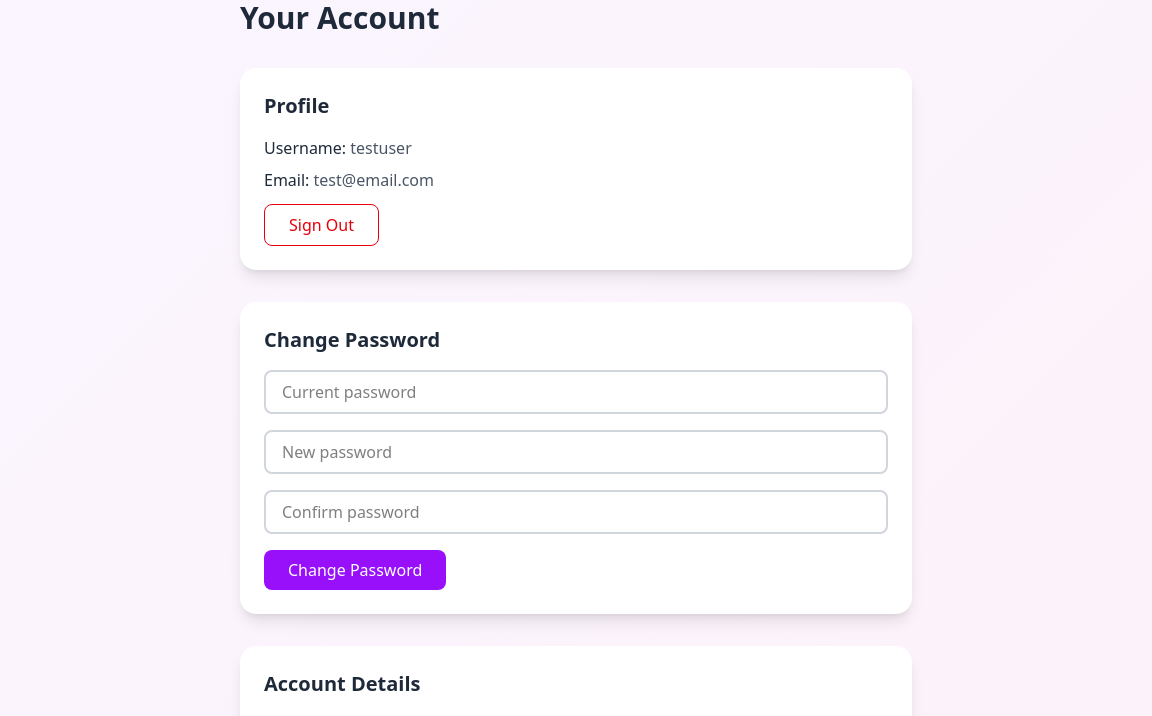
Scenario: DashboardPage › displays password validation errors
The image size is (1152, 716).
Type "OldPassword123!" into the password field with placeholder "Current password" at {"x": 576, "y": 392}, box left=264, top=370, right=888, bottom=414
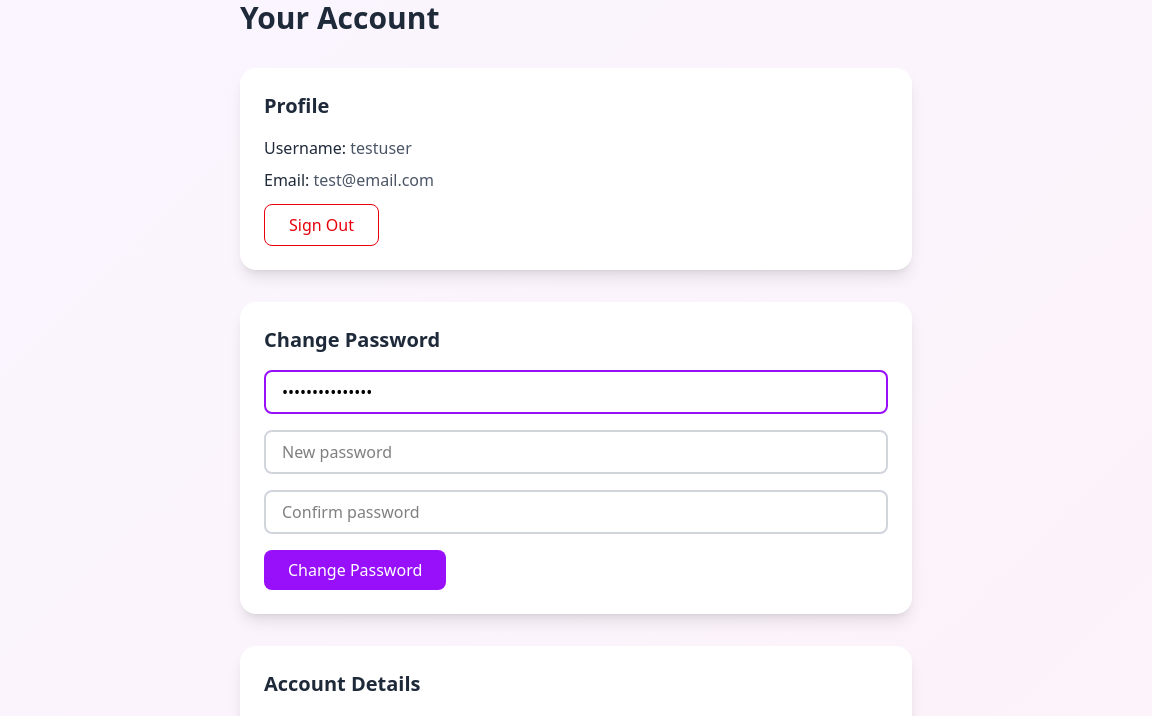
Type "NewPassword123!" into the password field with placeholder "New password" at {"x": 576, "y": 452}, box left=264, top=430, right=888, bottom=474
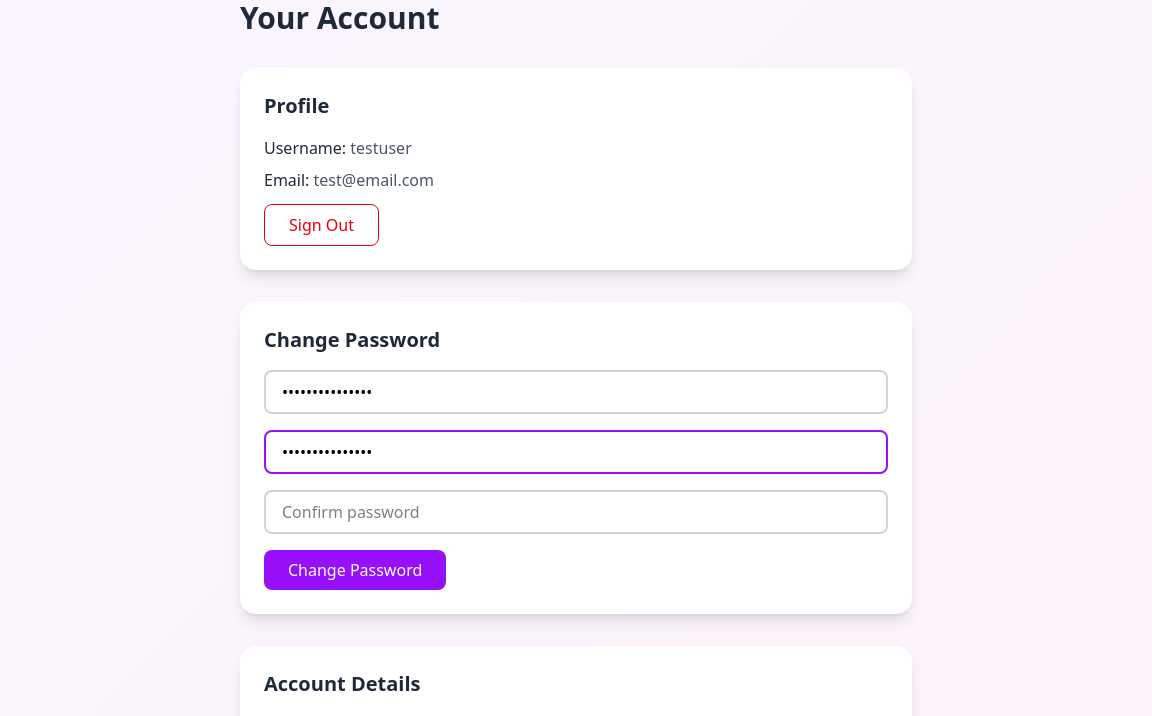
Type "NewPassword123!" into the password field with placeholder "Confirm password" at {"x": 576, "y": 512}, box left=264, top=490, right=888, bottom=534
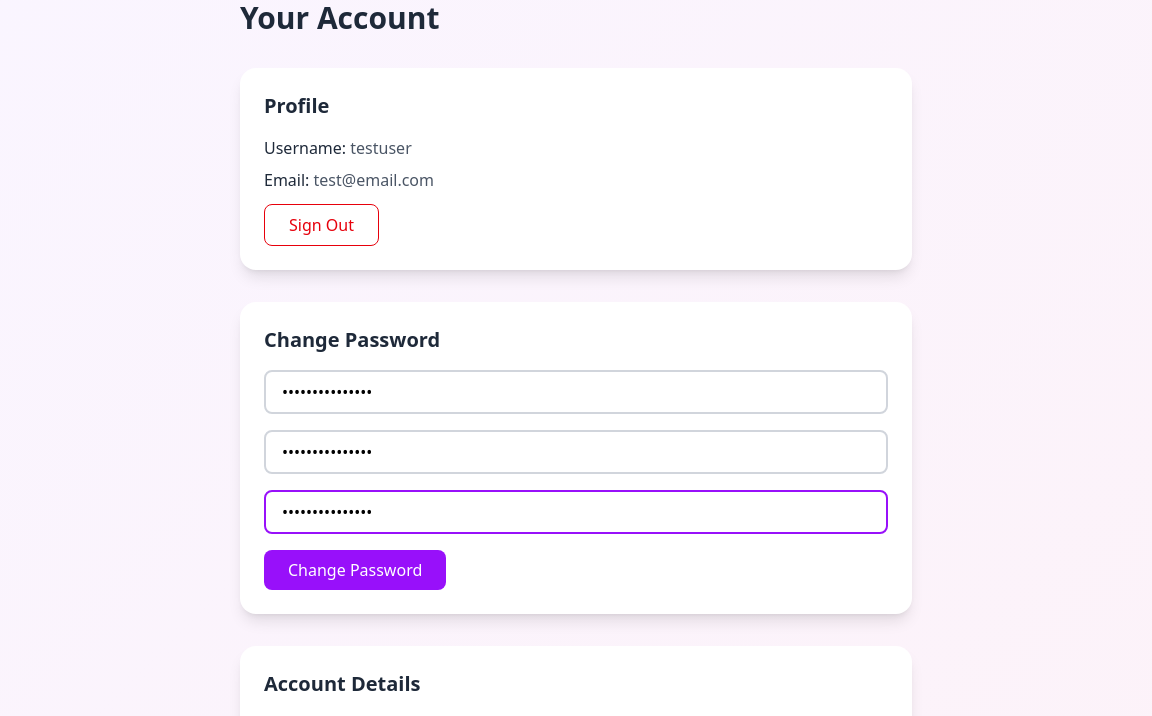
Click the button "Change Password" at {"x": 355, "y": 570}, box left=264, top=550, right=446, bottom=590
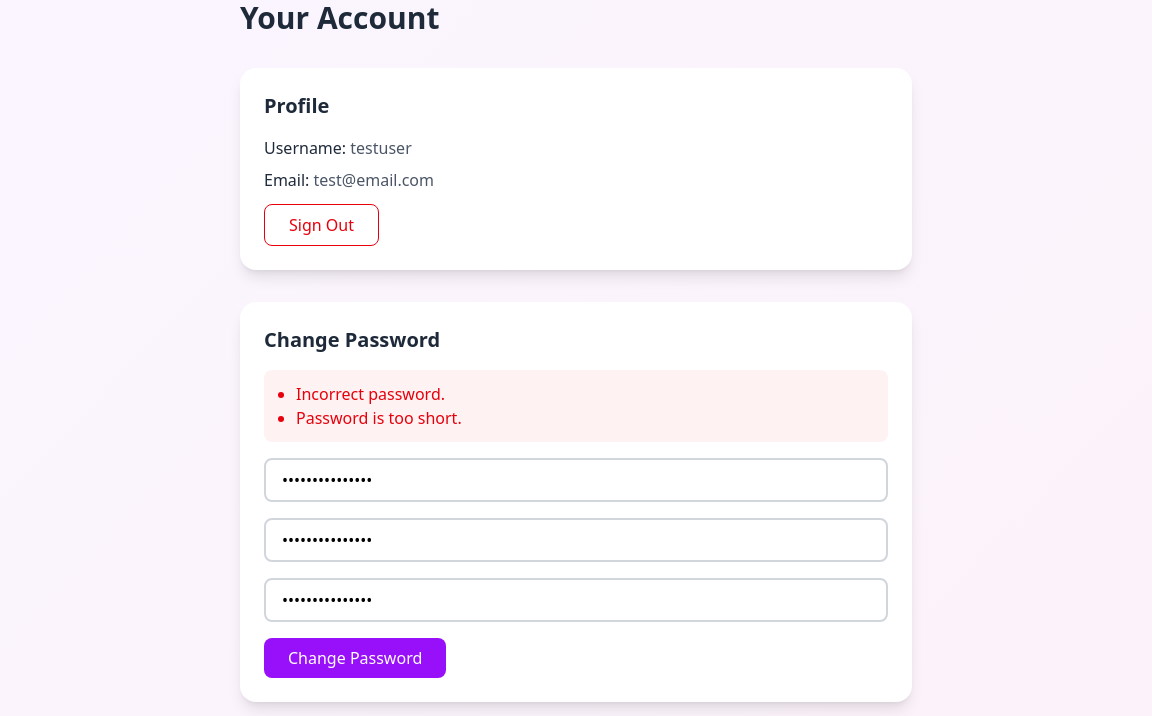
Now the list item "Incorrect password." is shown, box left=296, top=383, right=445, bottom=405
Now the list item "Password is too short." is shown, box left=296, top=407, right=462, bottom=429
